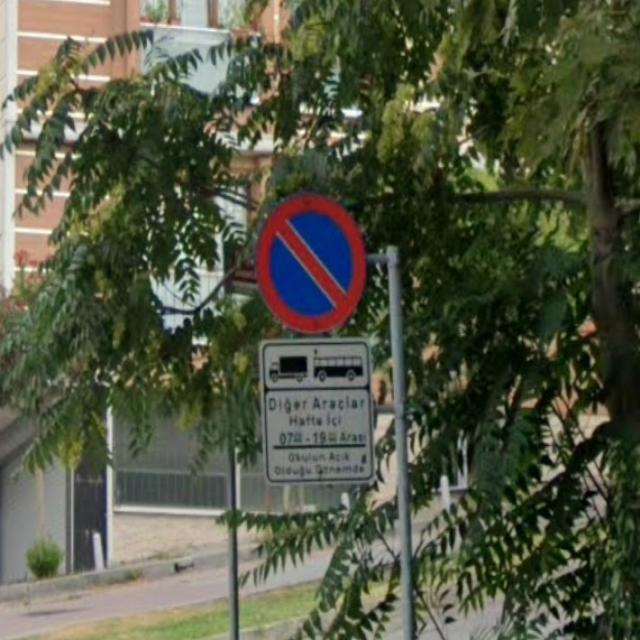parkyasak: (255, 193, 366, 332)
